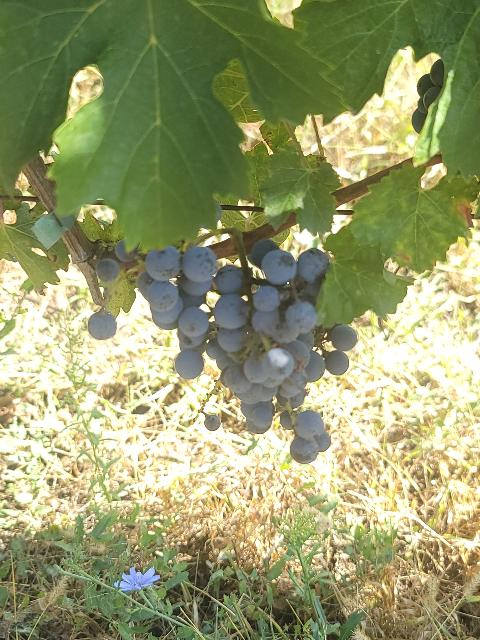grapes: (138, 246, 356, 434)
